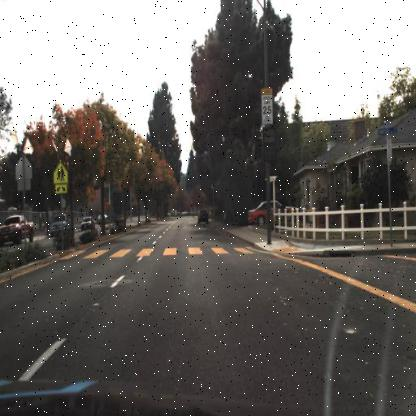car: (246, 199, 296, 222), (1, 214, 35, 245), (48, 213, 71, 234), (195, 206, 211, 226), (80, 216, 95, 232), (80, 216, 94, 232)
